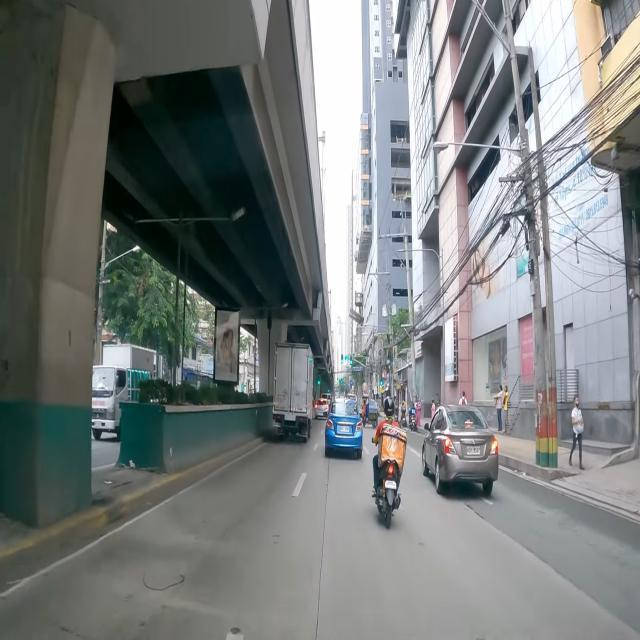car: (422, 406, 498, 496), (324, 398, 362, 458)
motorcycle: (372, 395, 406, 528), (408, 406, 417, 431), (400, 400, 408, 428)
tricycle: (360, 396, 380, 428)
truck: (91, 345, 158, 439), (274, 343, 314, 442)
